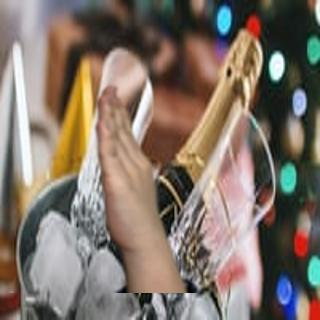RIGHT: (94, 83, 174, 254)
